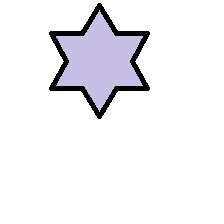star: (48, 2, 151, 120)
